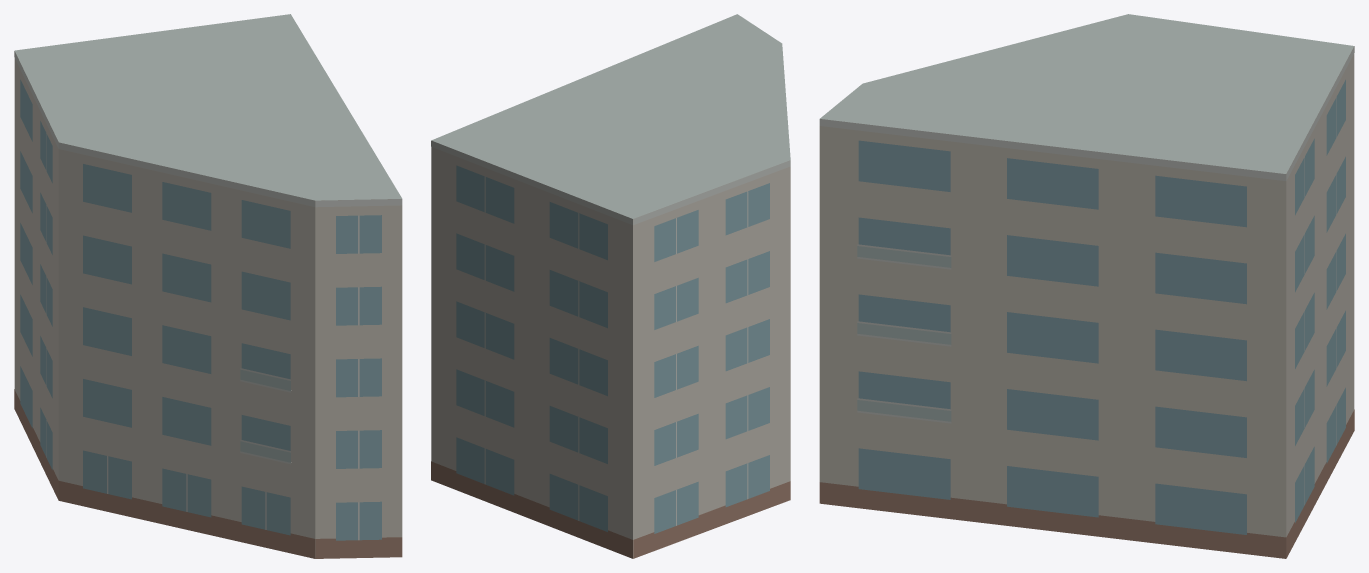
The model's file is survey-upis-32763665.glb.
3 renders of one model, left to right at view 1: azimuth 30°, elevation 25°; view 2: azimuth 150°, elevation 25°; view 3: azimuth 270°, elevation 25°, orthographic. The views are drawn at different scales.
Parts seen in each view (by area): view 1: survey-upis-32763665.tmp; view 2: survey-upis-32763665.tmp; view 3: survey-upis-32763665.tmp.
Boxes of the visible parts, x1,y1,x2,y2 form: survey-upis-32763665.tmp: (14,14,402,558); survey-upis-32763665.tmp: (431,14,790,558); survey-upis-32763665.tmp: (819,14,1354,558).
Size of the model in its own units: 11.78 by 13.19 by 16.63.
